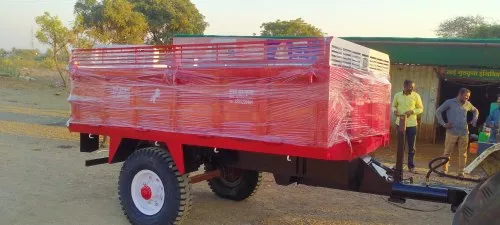wheel: (120, 151, 178, 225)
